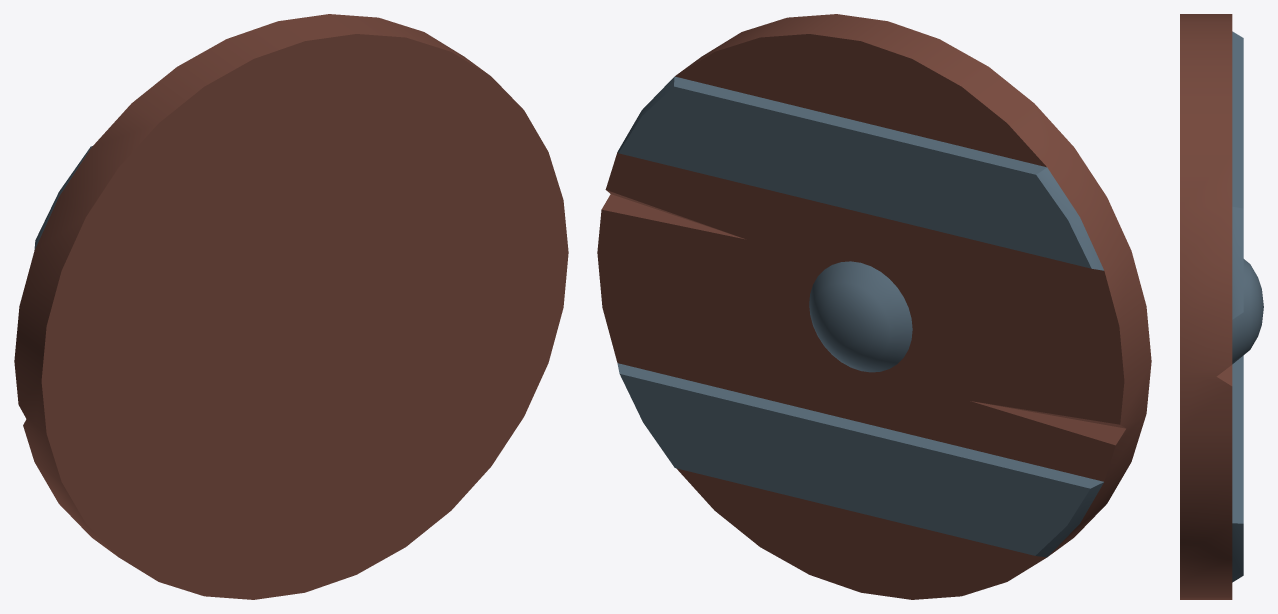
File: shield.fbx
3 renders of one model, left to right at view 1: azimuth 30°, elevation 25°; view 2: azimuth 150°, elevation 25°; view 3: azimuth 270°, elevation 25°, orthographic. The views are drawn at different scales.
Visible parts, largest first — view 1: Shield; view 2: Shield, Knob; view 3: Shield, Knob.
Boxes of the visible parts, <box> form: Shield: <box>14,14,568,599</box>; Shield: <box>597,14,1151,599</box>; Knob: <box>809,261,912,372</box>; Shield: <box>1180,14,1243,599</box>; Knob: <box>1232,259,1263,364</box>.
Bounding box in the file's own units: 105 × 105 × 15.08.
